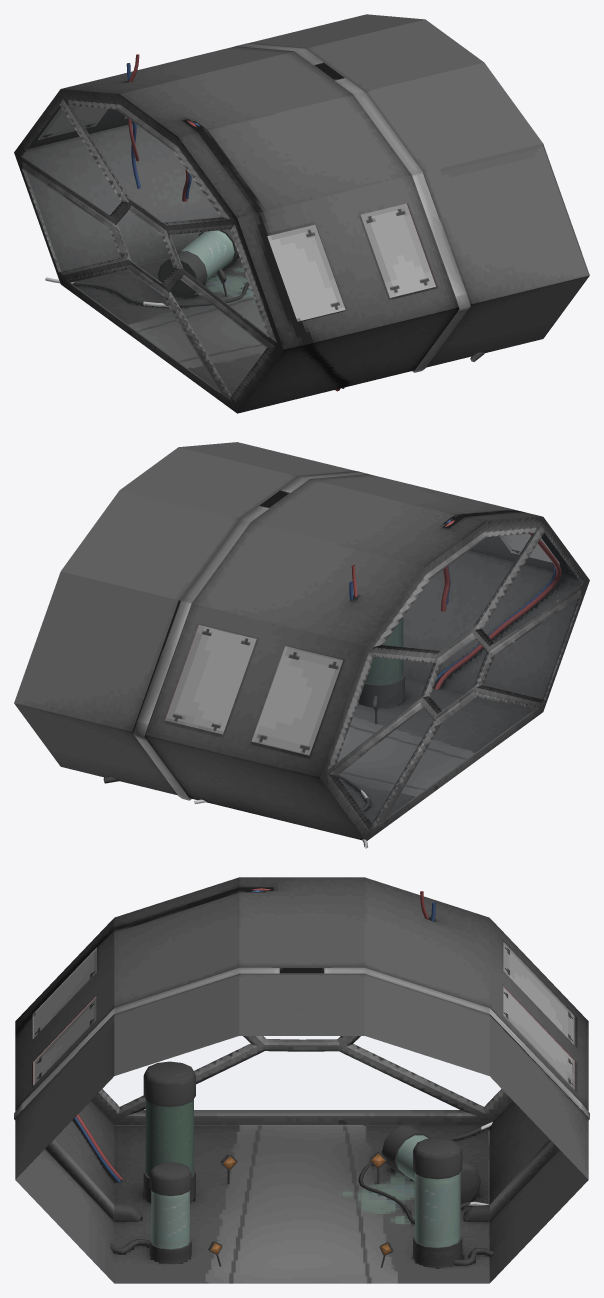
File: Main enviroment.fbx
The picture shows the model from 3 angles, top to bottom: view 1: azimuth 30°, elevation 25°; view 2: azimuth 150°, elevation 25°; view 3: azimuth 270°, elevation 25°; orthographic projection. The views are drawn at different scales.
Parts seen in each view (by area): view 1: Plane.001, Plane.002, Cube, Cylinder.002, BézierCurve.005; view 2: Plane.001, Plane.002, Cube, Cylinder.001, BézierCurve.003; view 3: Plane.001, Plane.002, Cube, Cylinder.003, Cylinder.001, Cylinder, Cylinder.002, BézierCurve.005.
Boxes of the visible parts, box(x1,y1,x2,y2) form: Plane.001: box(22, 14, 589, 413); Plane.002: box(14, 89, 283, 413); Cube: box(235, 43, 470, 372); Cylinder.002: box(157, 229, 239, 298); BézierCurve.005: box(45, 277, 249, 306); Plane.001: box(14, 442, 581, 840); Plane.002: box(320, 516, 589, 840); Cube: box(133, 471, 367, 800); Cylinder.001: box(358, 617, 404, 708); BézierCurve.003: box(434, 520, 561, 689); Plane.001: box(15, 877, 588, 1283); Plane.002: box(91, 1036, 512, 1124); Cube: box(14, 967, 589, 1221); Cylinder.003: box(413, 1137, 462, 1268); Cylinder.001: box(143, 1061, 195, 1202); Cylinder: box(149, 1162, 191, 1263); Cylinder.002: box(382, 1125, 480, 1204); BézierCurve.005: box(358, 1122, 492, 1223).
Bounding box in the file's own units: 3.49 × 2.62 × 5.21.
